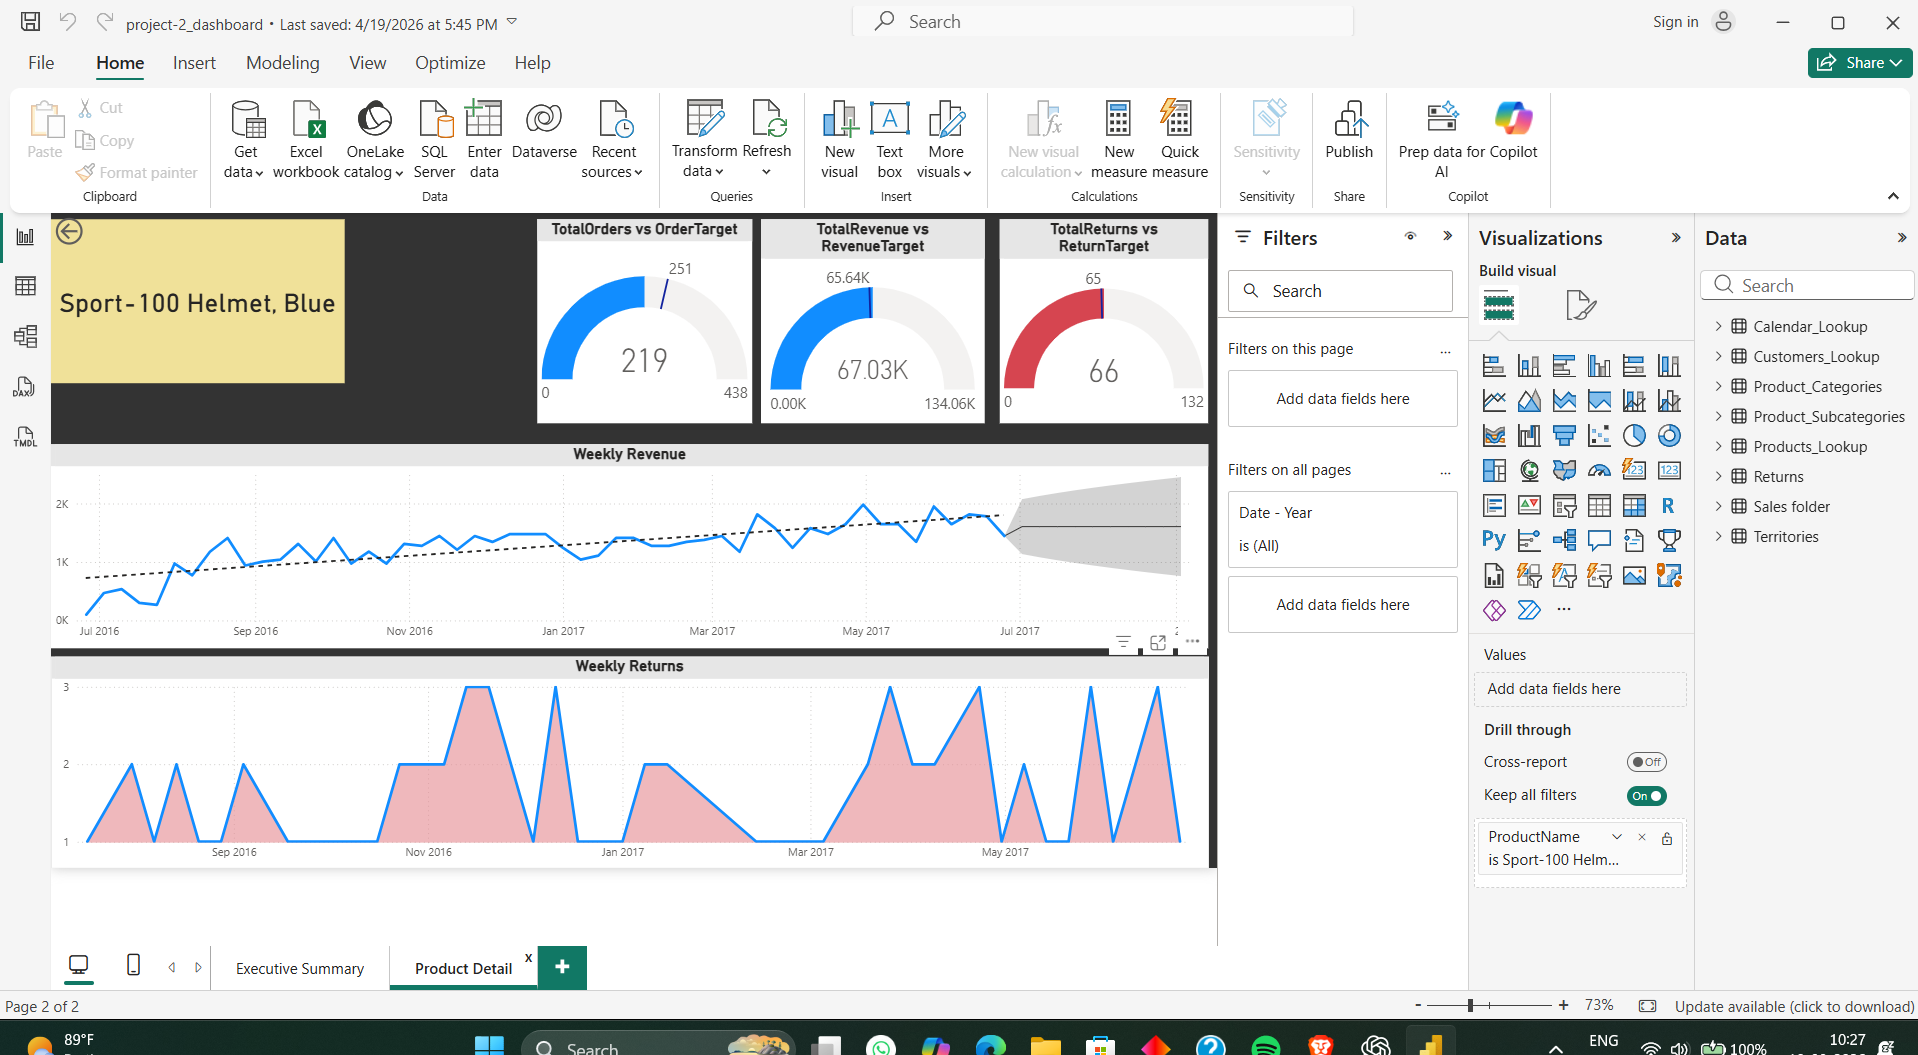

The dashboard page shown, as its layout file describes it:
{"tool":"powerbi","page":{"name":"Product Detail","canvas":[1280,720],"ordinal":1},"visuals":[{"type":"lineChart","title":"Weekly Revenue","fields":{"Category":["Calendar_Lookup.Start of Week"],"Y":["Sales folder.TotalRevenue_M"]},"box":[0,253.9,1270.7,223.7],"z":0},{"type":"areaChart","title":"Weekly Returns","fields":{"Category":["Calendar_Lookup.Start of Week"],"Y":["Returns.TotalReturns_M"]},"box":[0,487.1,1270.7,233.3],"z":1000},{"type":"gauge","title":"TotalOrders vs OrderTarget","fields":{"Y":["Sales folder.TotalOrders_M"],"TargetValue":["Sales folder.OrderTarget_M"]},"box":[533.8,6.9,236,223.7],"z":2000},{"type":"gauge","title":"TotalRevenue vs RevenueTarget","fields":{"Y":["Sales folder.TotalRevenue_M"],"TargetValue":["Sales folder.RevenueTarget_M"]},"box":[779.4,6.9,245.6,223.7],"z":3000},{"type":"gauge","title":"TotalReturns vs ReturnTarget","fields":{"Y":["Returns.TotalReturns_M"],"TargetValue":["Returns.ReturnTarget_M"]},"box":[1041.5,6.9,229.2,223.7],"z":4000},{"type":"card","fields":{"Values":["Min(Products_Lookup.ProductName)"]},"box":[0,6.9,322.5,179.8],"z":5000},{"type":"actionButton","box":[0,0,100,40],"z":6000}]}

Visuals, with their boxes on the page's 1280x720 design canvas (x1, y1, x2, y2). These are canvas units, not pixel positions in the 1918x1055 screenshot, which may show the page scaled, cropped or inside an application window:
"Weekly Revenue" lineChart: left=0, top=254, right=1271, bottom=478
"Weekly Returns" areaChart: left=0, top=487, right=1271, bottom=720
"TotalOrders vs OrderTarget" gauge: left=534, top=7, right=770, bottom=231
"TotalRevenue vs RevenueTarget" gauge: left=779, top=7, right=1025, bottom=231
"TotalReturns vs ReturnTarget" gauge: left=1042, top=7, right=1271, bottom=231
card - Min(Products_Lookup.ProductName): left=0, top=7, right=322, bottom=187
actionButton: left=0, top=0, right=100, bottom=40
